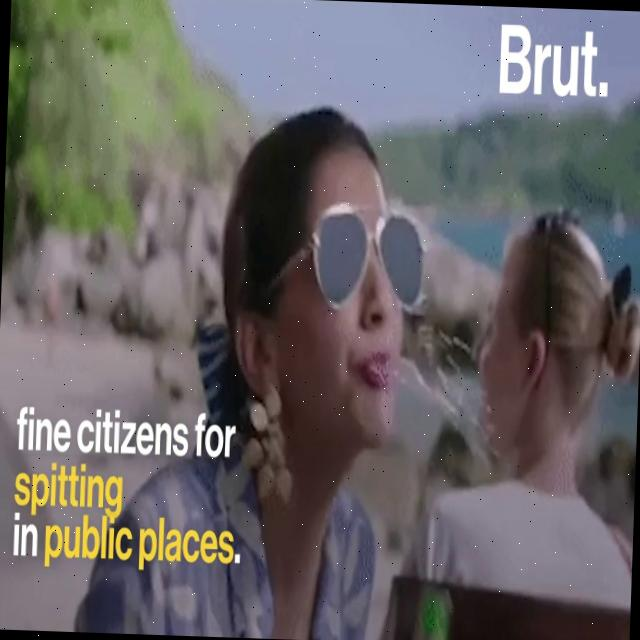spit: (324, 300, 527, 543)
